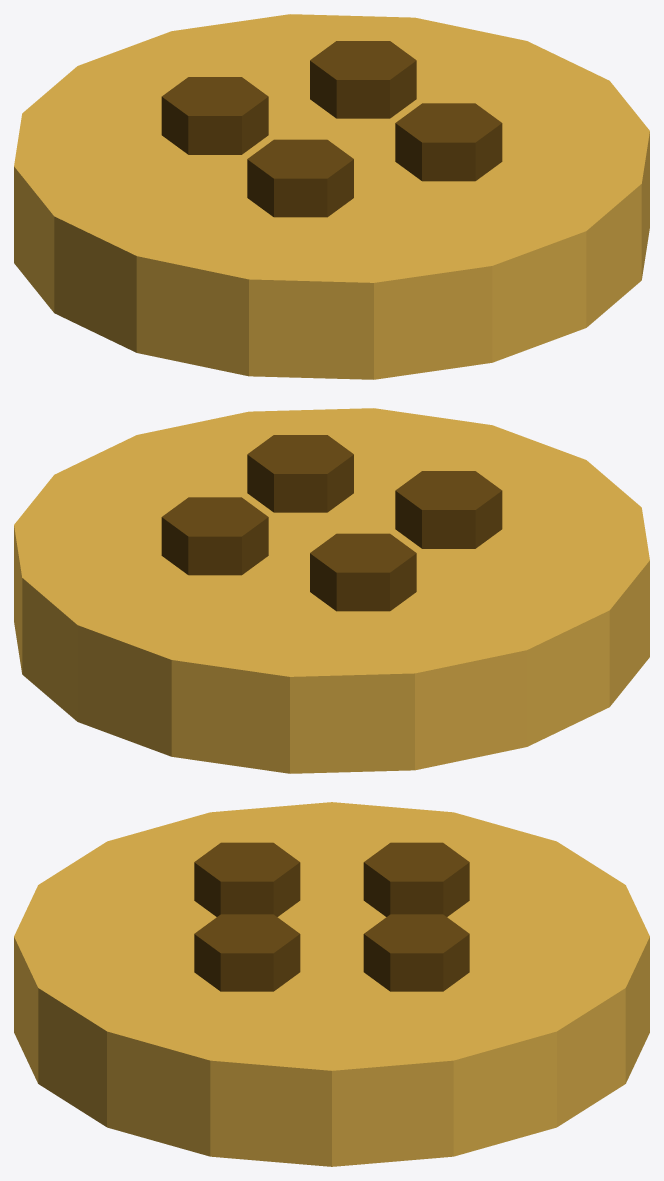
The model's file is button.fbx.
The picture shows the model from 3 angles, top to bottom: view 1: azimuth 30°, elevation 25°; view 2: azimuth 150°, elevation 25°; view 3: azimuth 270°, elevation 25°; orthographic projection.
Parts seen in each view (by area): view 1: button; view 2: button; view 3: button.
Part boxes in pixels (x1=…): button: x1=14, y1=14, x2=649, y2=379; button: x1=14, y1=408, x2=649, y2=773; button: x1=14, y1=802, x2=649, y2=1166.
Bounding box in the file's own units: 0.03 × 0.007 × 0.03.
